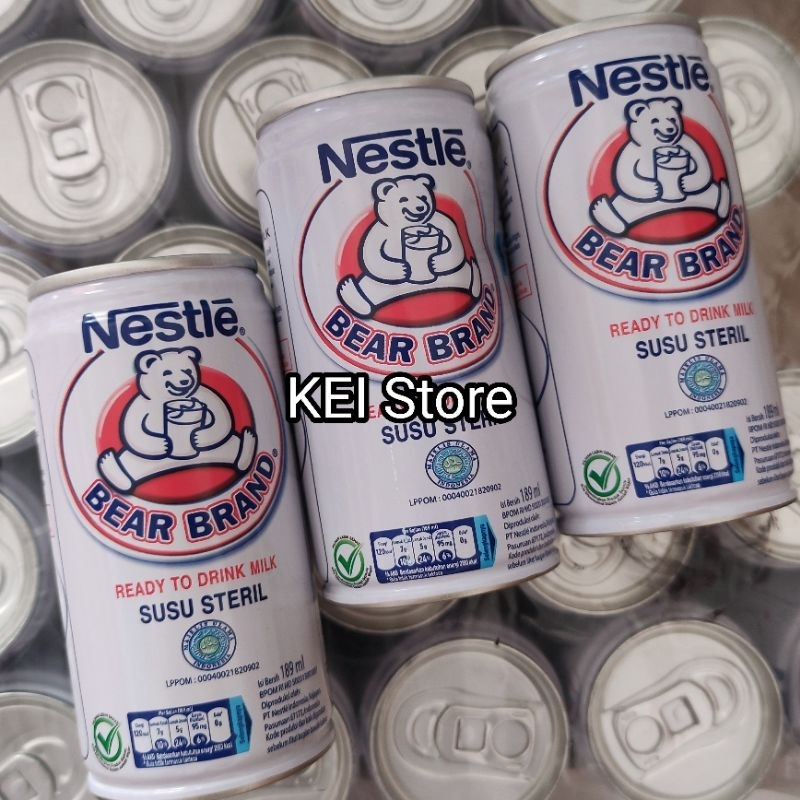Bear Brand Susu Steril (189ml): (6, 275, 255, 788), (230, 104, 481, 605), (486, 54, 708, 544), (340, 0, 374, 9)
